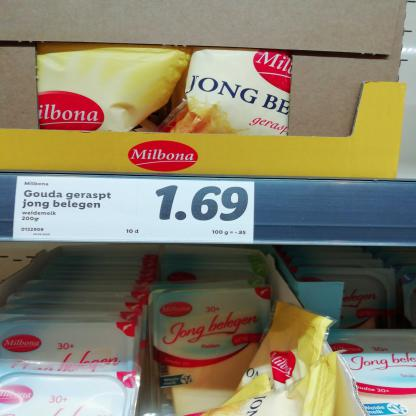prtg: (13, 178, 256, 244)
